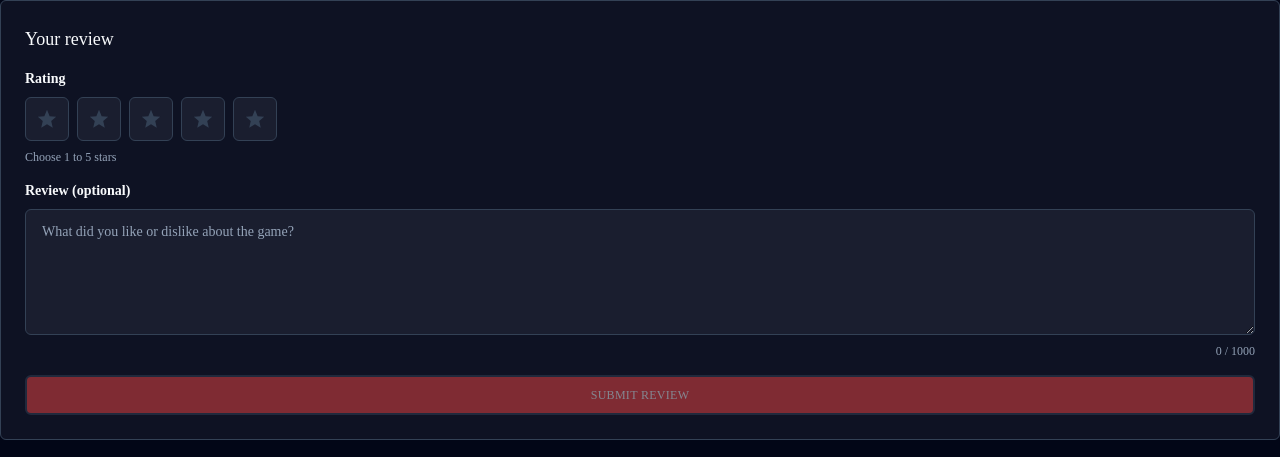
Test: <ReviewForm /> › keeps the submit button disabled until a star is picked
expect the button with test id "review-submit" is disabled: met, box [25, 375, 1255, 415]
expect the button with test id "review-submit" reads "Submit review": met, box [25, 375, 1255, 415]
Click the button named "Rate 4 out of 5" at (203, 119), box [181, 97, 225, 141]
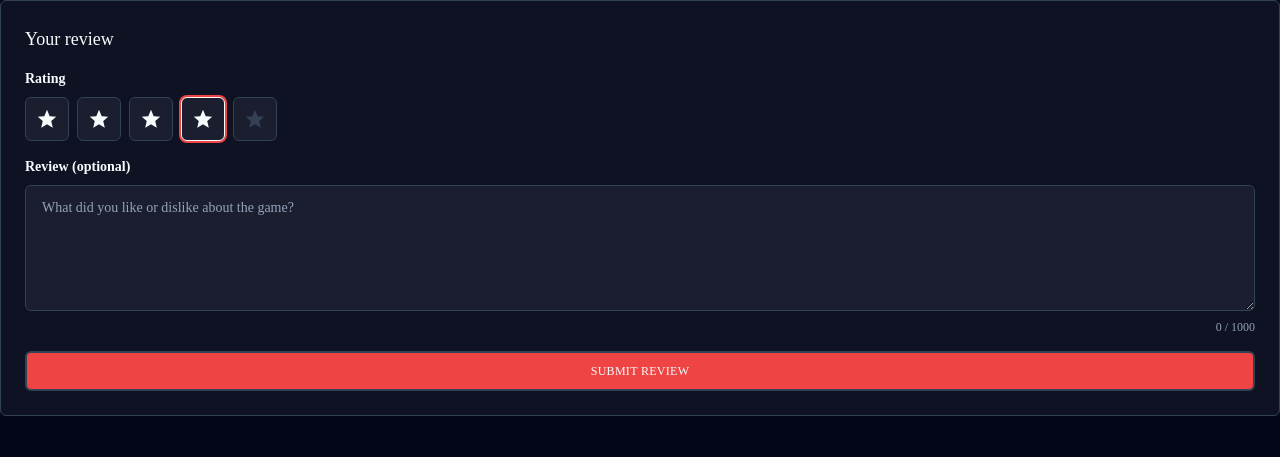
expect the button with test id "review-submit" is enabled: met, box [25, 351, 1255, 391]
